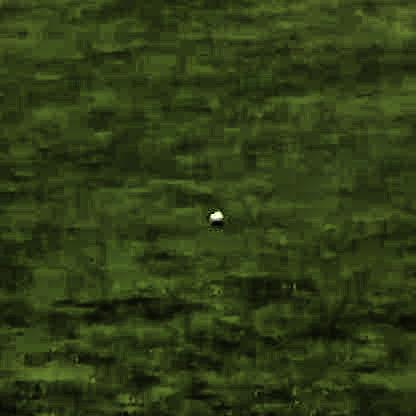golfball: (208, 208, 223, 223)
